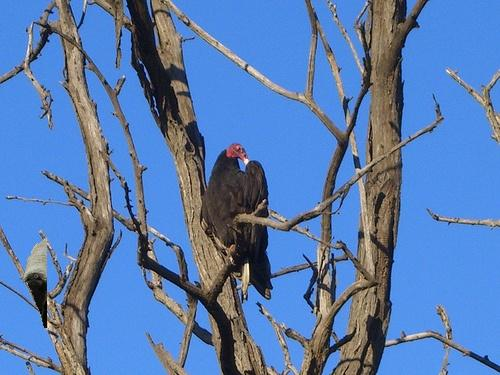tampered: (24, 241, 47, 328)
